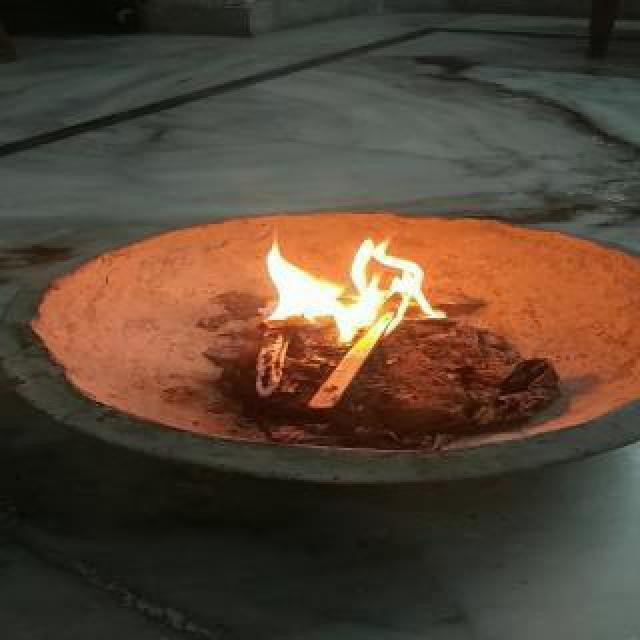Fire: (257, 214, 457, 344)
